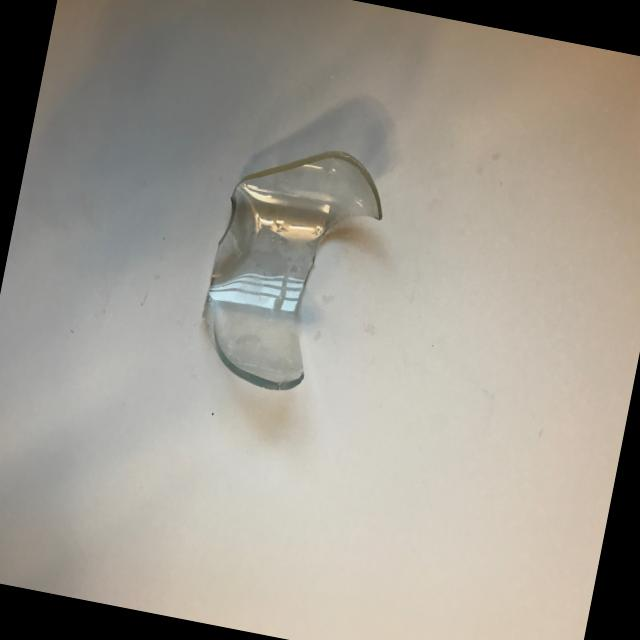Glass: (149, 120, 411, 430)
